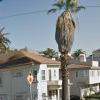Palm tree: (43, 1, 93, 100)
